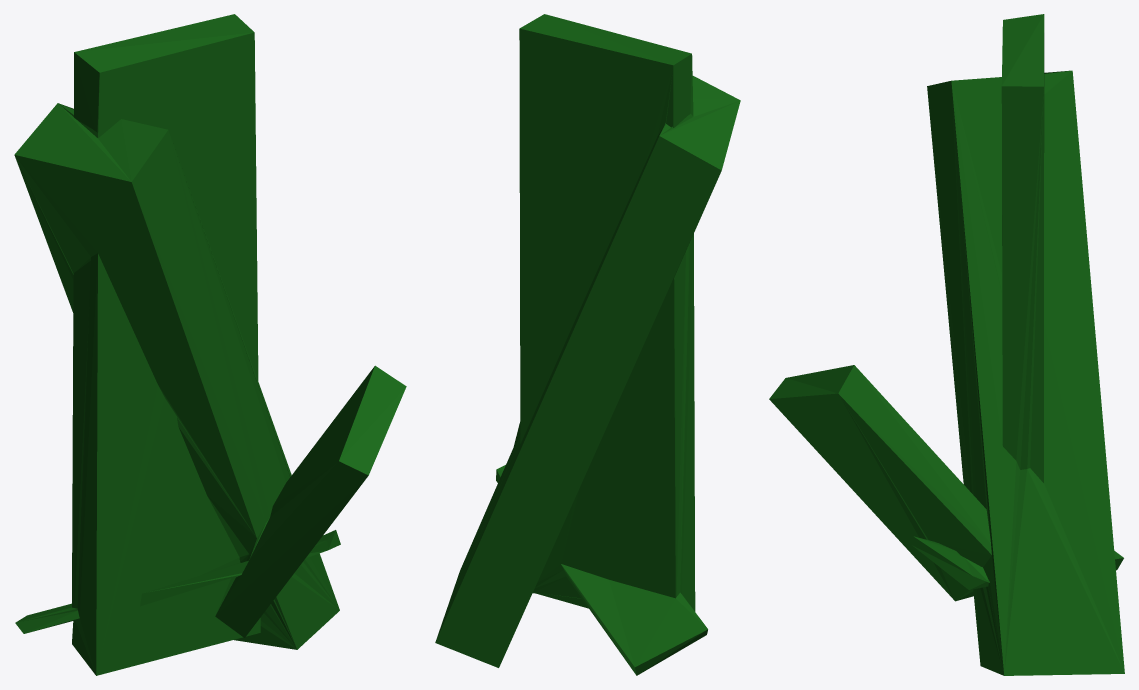
The picture shows the model from 3 angles, left to right: view 1: azimuth 30°, elevation 25°; view 2: azimuth 150°, elevation 25°; view 3: azimuth 270°, elevation 25°; orthographic projection. The views are drawn at different scales.
Parts seen in each view (by area): view 1: 545_Cube.2199; view 2: 545_Cube.2199; view 3: 545_Cube.2199.
Part boxes in pixels (<box>): 545_Cube.2199: <box>14,14,406,675</box>; 545_Cube.2199: <box>435,14,740,675</box>; 545_Cube.2199: <box>769,14,1124,675</box>.
Bounding box in the file's own units: 6.44 × 13.19 × 7.22.
